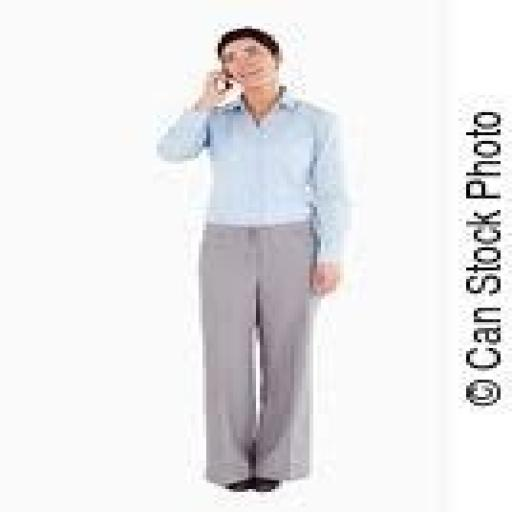calling: (153, 23, 351, 495)
